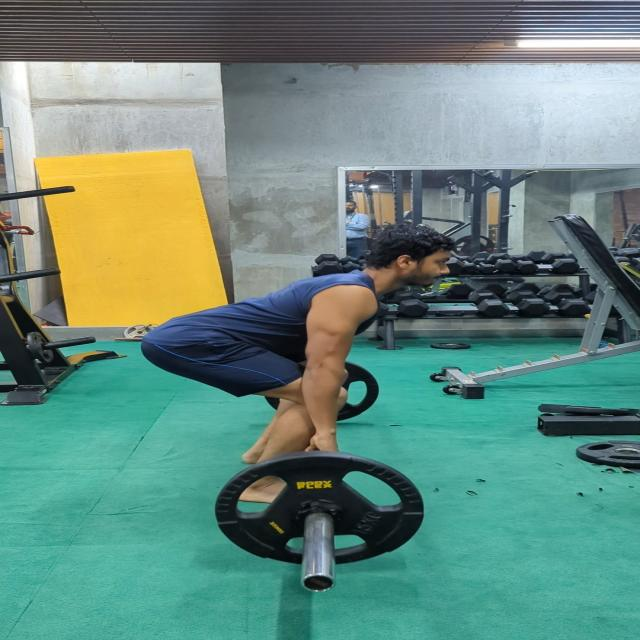Normal_Deadlifts: (134, 215, 454, 508)
